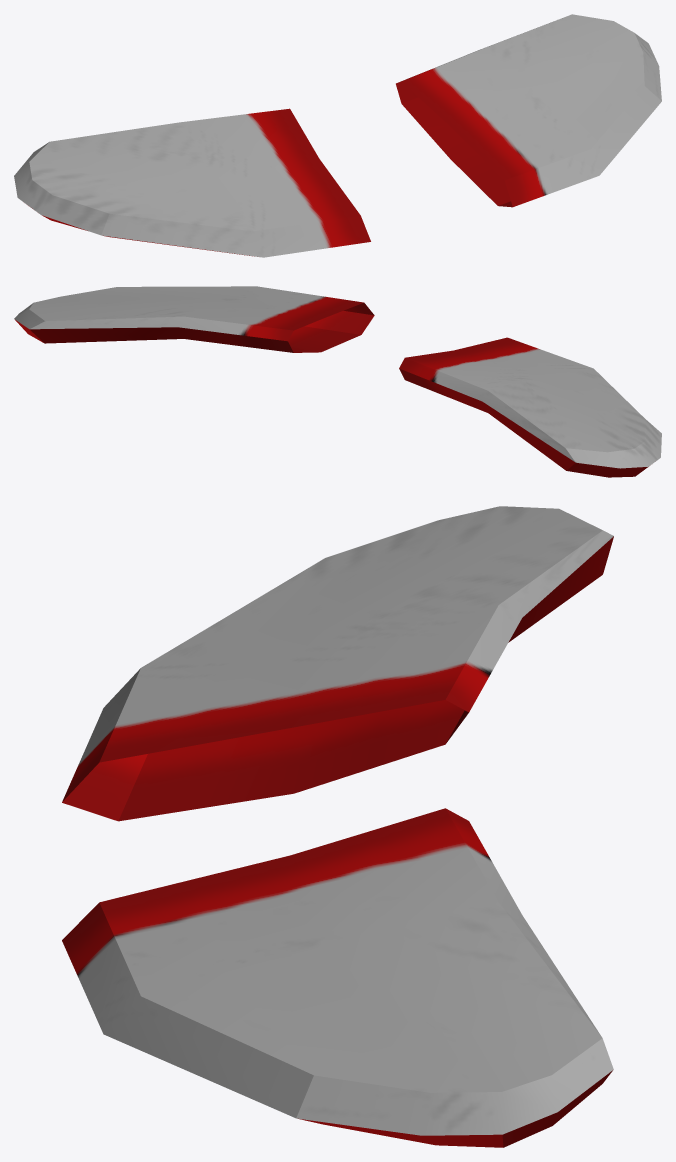
The model's file is TailWing2.FBX.
The picture shows the model from 3 angles, top to bottom: view 1: azimuth 30°, elevation 25°; view 2: azimuth 150°, elevation 25°; view 3: azimuth 270°, elevation 25°; orthographic projection. The views are drawn at different scales.
Parts seen in each view (by area): view 1: Object001; view 2: Object001; view 3: Object001.
Boxes of the visible parts, <box> form: Object001: <box>14,14,661,257</box>; Object001: <box>14,286,661,477</box>; Object001: <box>62,506,613,1147</box>.
Bounding box in the file's own units: 38.84 × 4 × 14.76.
Materials: 1 (1 with a texture image).
